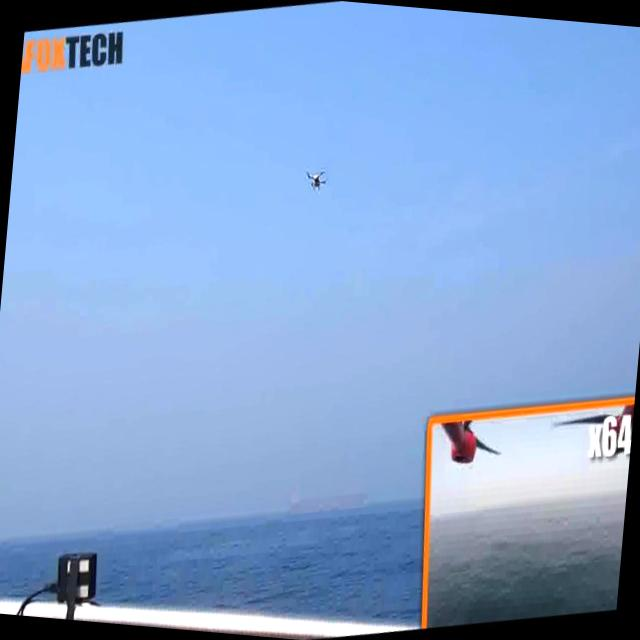drone: (299, 162, 332, 199)
